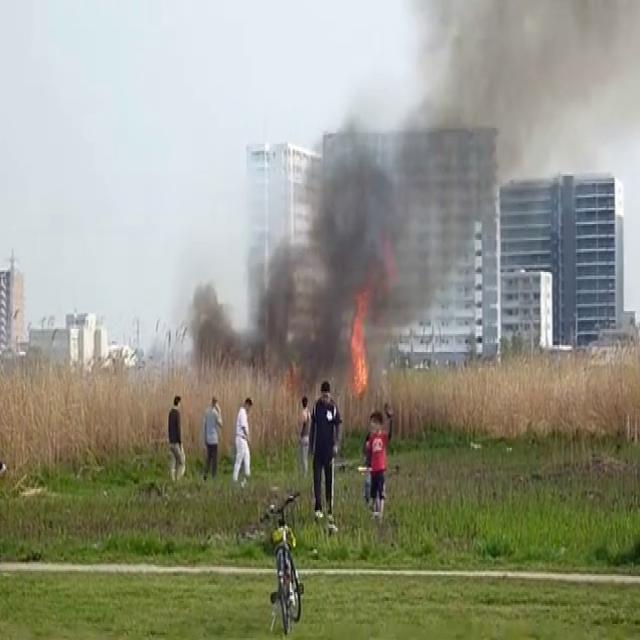Fire: (344, 292, 374, 404)
Smoke: (242, 64, 426, 375), (424, 0, 636, 260)
